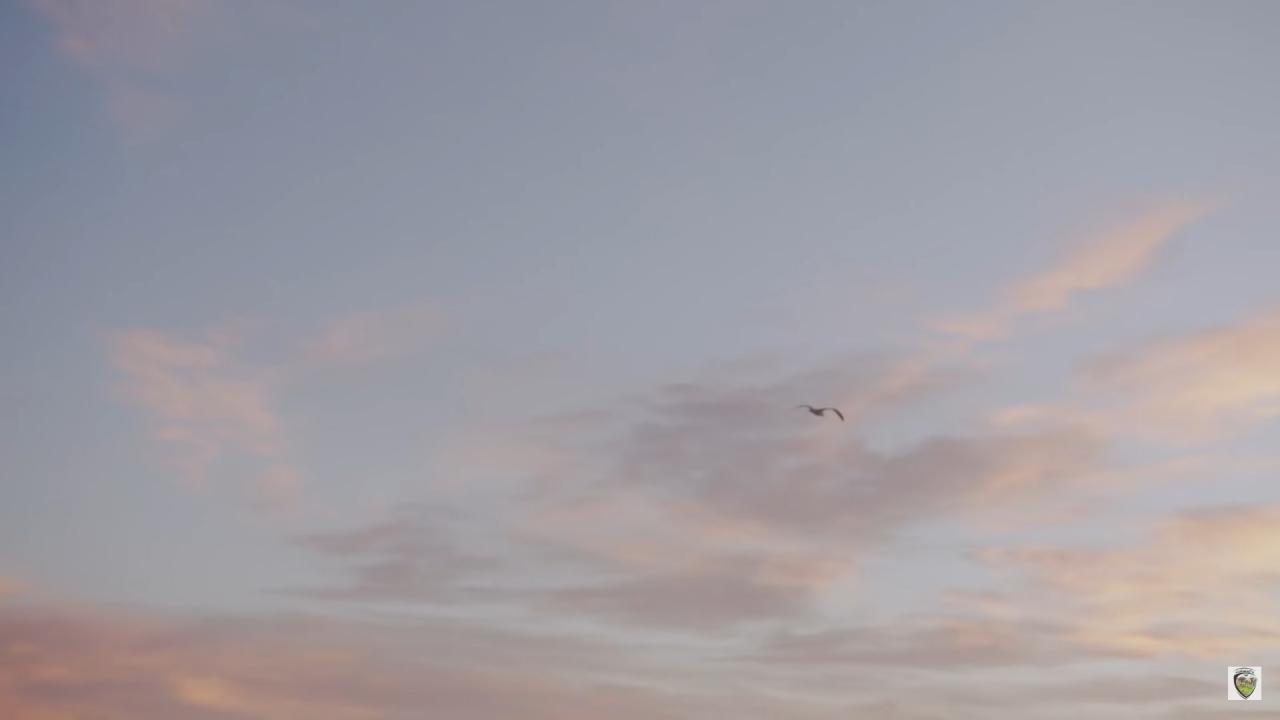Bird: (787, 391, 852, 433)
